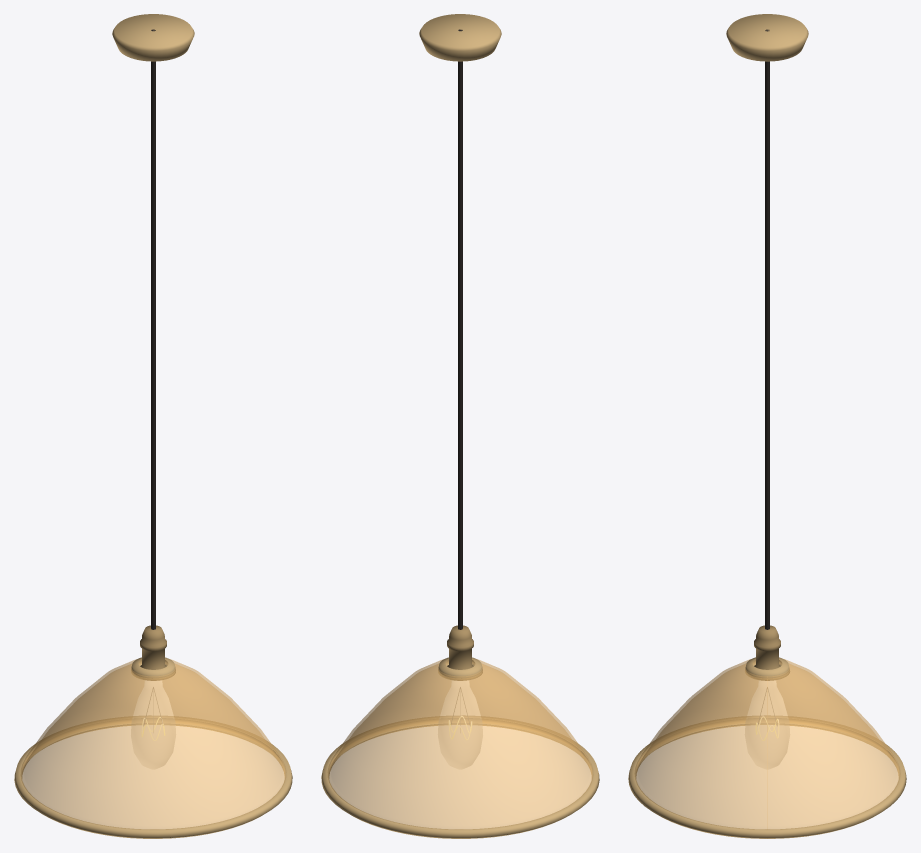
Rendered from luminaria.glb.
The picture shows the model from 3 angles, left to right: view 1: azimuth 30°, elevation 25°; view 2: azimuth 150°, elevation 25°; view 3: azimuth 270°, elevation 25°; orthographic projection.
Visible parts, largest first — view 1: lum_cupula, lum_aro, lum_canopla, lum_cabo, lum_lampada, lum_soquete, lum_colar; view 2: lum_cupula, lum_aro, lum_canopla, lum_cabo, lum_lampada, lum_soquete, lum_colar; view 3: lum_cupula, lum_aro, lum_canopla, lum_cabo, lum_lampada, lum_soquete, lum_colar.
Boxes of the visible parts, x1,y1,x2,y2 form: lum_cupula: (20,659,286,829); lum_aro: (14,715,292,838); lum_canopla: (112,14,194,61); lum_cabo: (151,29,155,629); lum_lampada: (131,681,175,768); lum_soquete: (140,625,166,669); lum_colar: (131,657,175,680); lum_cupula: (327,659,593,829); lum_aro: (321,715,599,838); lum_canopla: (419,14,501,61); lum_cabo: (458,29,462,629); lum_lampada: (438,681,482,768); lum_soquete: (447,625,473,669); lum_colar: (438,657,482,680); lum_cupula: (634,659,900,829); lum_aro: (628,715,906,838); lum_canopla: (726,14,808,61); lum_cabo: (765,29,769,629); lum_lampada: (745,681,789,768); lum_soquete: (754,625,780,669); lum_colar: (745,657,789,680).
Bounding box in the file's own units: 0.392 × 1.17 × 0.392.
